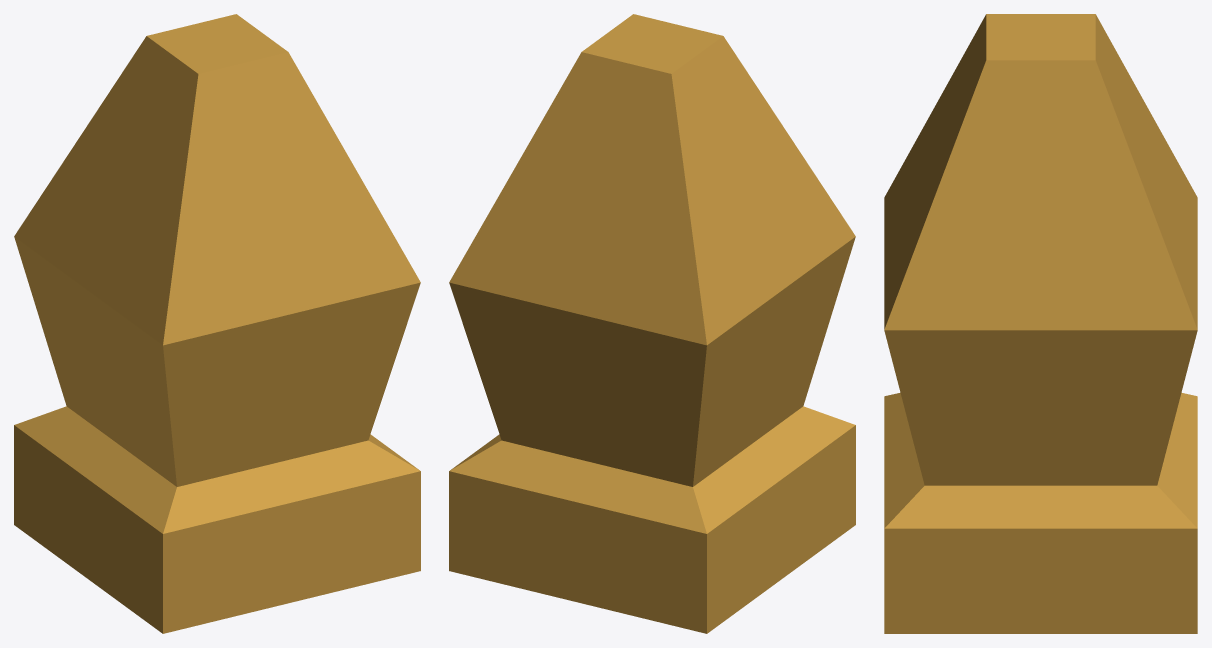
File: bullet 1.fbx
3 views of the same model, side by side, from view 1: azimuth 30°, elevation 25°; view 2: azimuth 150°, elevation 25°; view 3: azimuth 270°, elevation 25° (orthographic). The views are drawn at different scales.
Parts seen in each view (by area): view 1: Cube; view 2: Cube; view 3: Cube.
Part boxes in pixels (bbox=[...]): Cube: bbox=[14, 14, 420, 633]; Cube: bbox=[449, 14, 855, 633]; Cube: bbox=[884, 14, 1197, 633].
Size of the model in its own units: 200 by 374 by 200.
